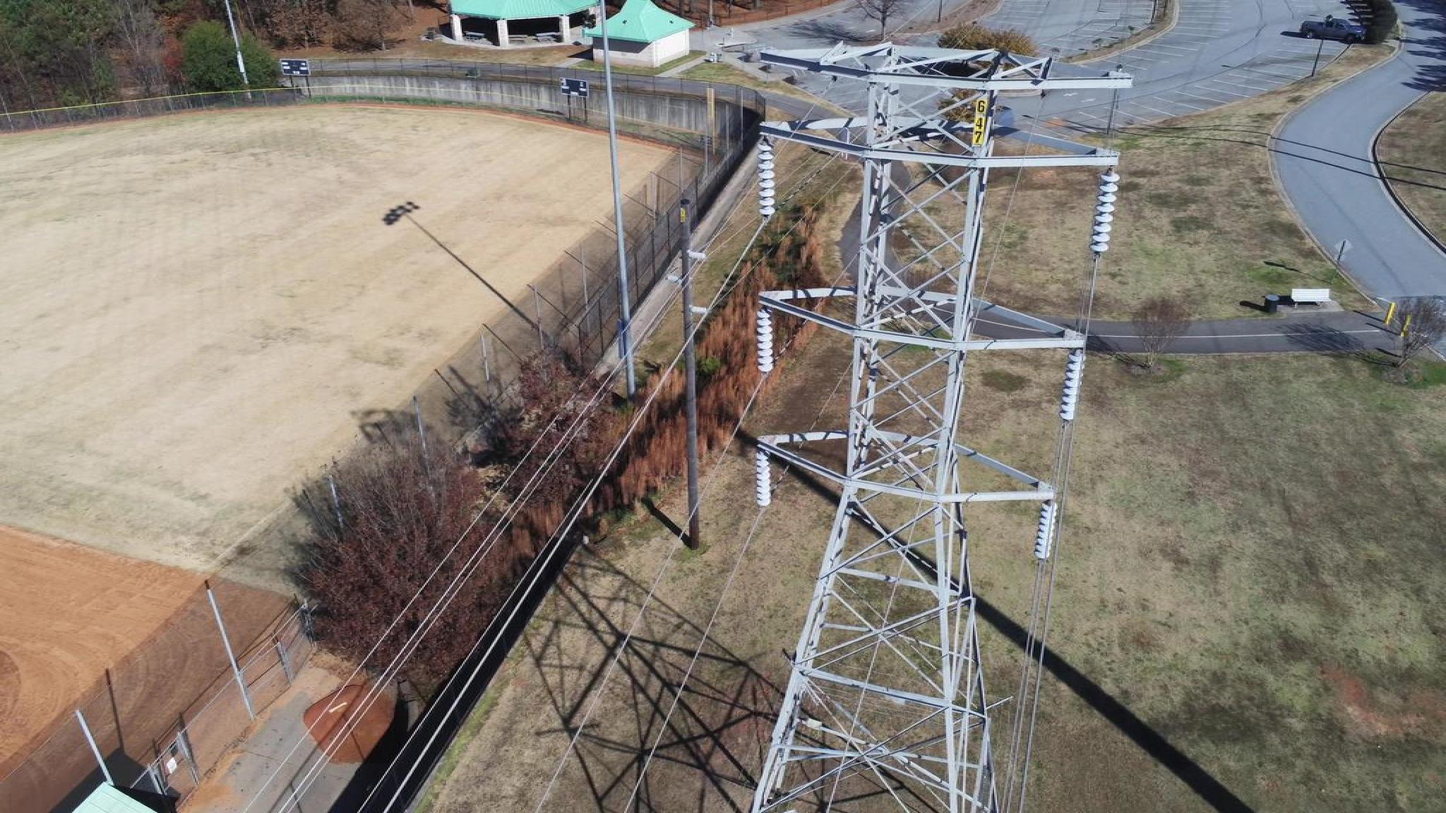tower: (743, 41, 1133, 813)
